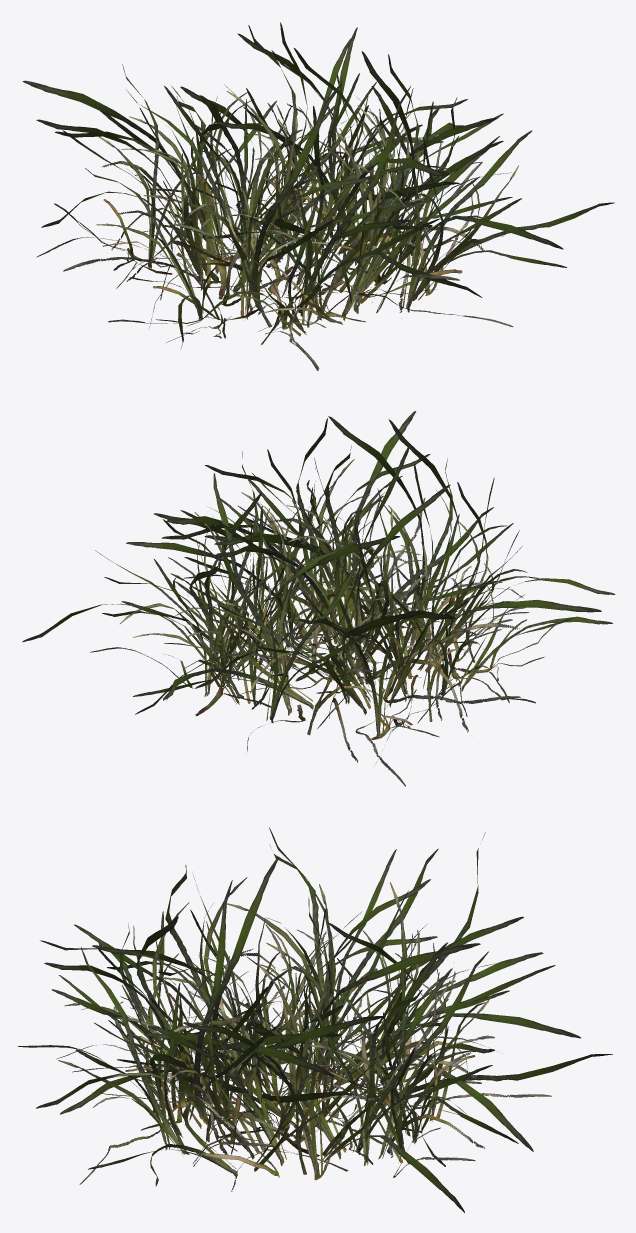
File: grass_medium_01_large_c.gltf
3 views of the same model, one above another, from view 1: azimuth 30°, elevation 25°; view 2: azimuth 150°, elevation 25°; view 3: azimuth 270°, elevation 25° (orthographic). The views are drawn at different scales.
Parts seen in each view (by area): view 1: grass_medium_01_large_c_LOD0; view 2: grass_medium_01_large_c_LOD0; view 3: grass_medium_01_large_c_LOD0.
Part boxes in pixels (x1,y1,x2,y2): grass_medium_01_large_c_LOD0: (22,22,614,370); grass_medium_01_large_c_LOD0: (22,411,615,786); grass_medium_01_large_c_LOD0: (18,827,612,1212).
Bounding box in the file's own units: 0.2788 × 0.1423 × 0.2551.
Materials: 1 (1 with a texture image).
